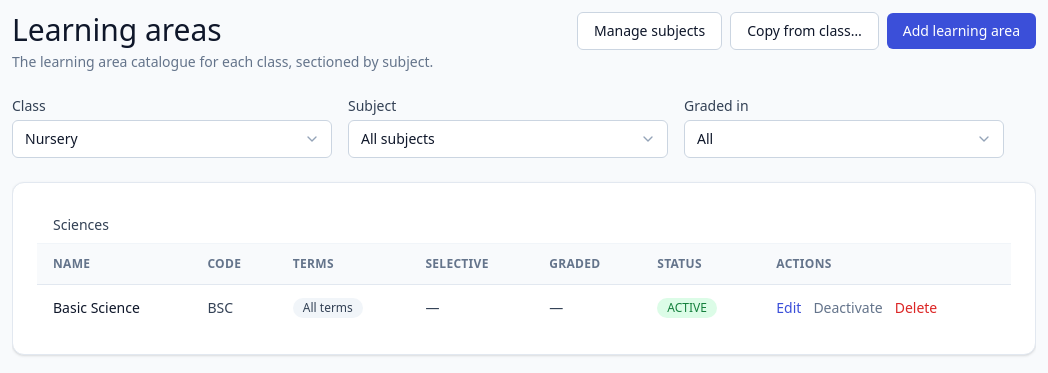
SubjectsPage › shows an empty state when the filtered subject has no learning areas
Expected: the text "Basic Science" is shown, [37,284,191,330]
Select "Languages" in the dropdown labelled "Subject": (508, 139) [348,120,668,158]
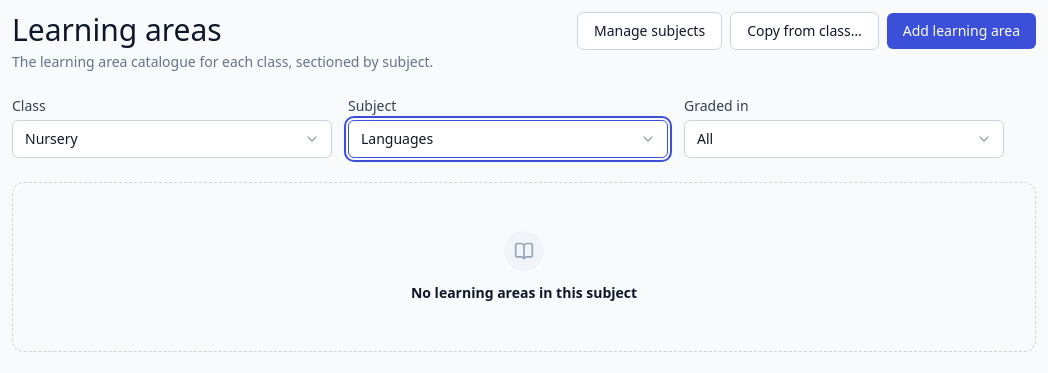
Expected: the heading "No learning areas in this subject" is shown, [411,283,637,303]
Expected: the text "Basic Science" is gone
